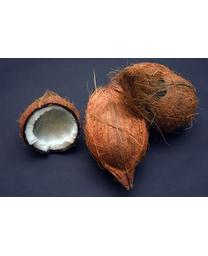coconut: (83, 81, 146, 190), (115, 63, 197, 136), (17, 90, 83, 155)
